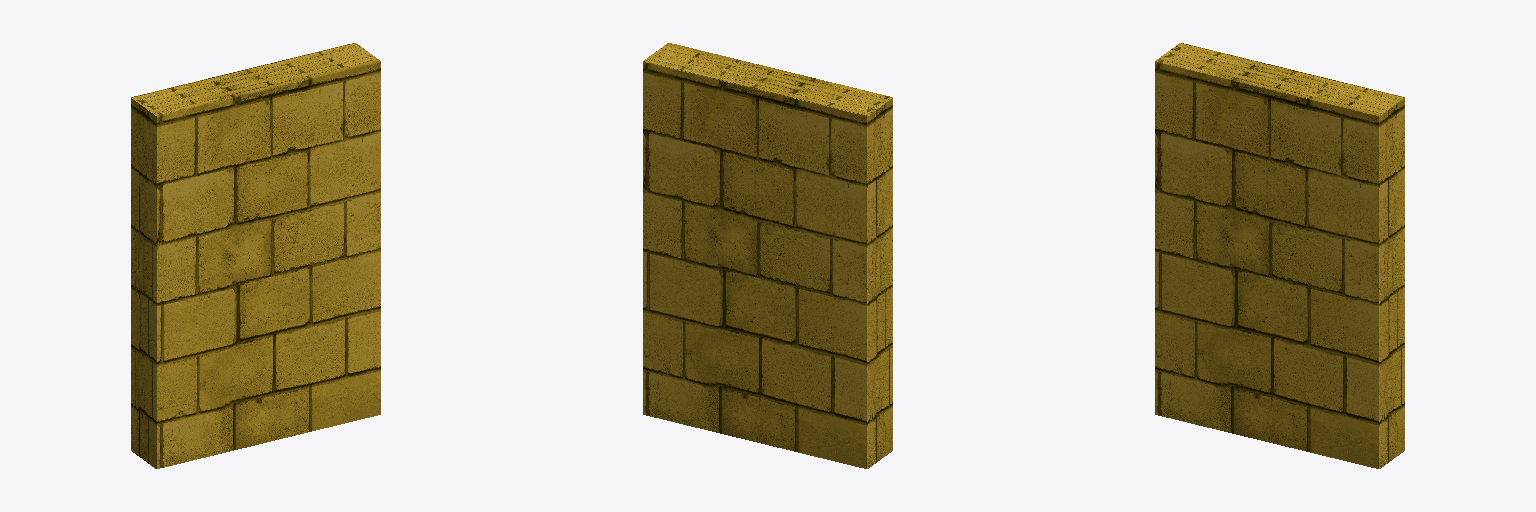
The picture shows the model from 3 angles: view 1: azimuth 30°, elevation 25°; view 2: azimuth 150°, elevation 25°; view 3: azimuth 330°, elevation 25°; orthographic projection.
Parts seen in each view (by area): view 1: brick_wall_x1_SF4; view 2: brick_wall_x1_SF4; view 3: brick_wall_x1_SF4.
Boxes of the visible parts, <box> form: brick_wall_x1_SF4: <box>131,43,380,468</box>; brick_wall_x1_SF4: <box>643,43,892,468</box>; brick_wall_x1_SF4: <box>1155,43,1404,468</box>.
Bounding box in the file's own units: 200 × 300 × 40.
1 materials, 1 textured.